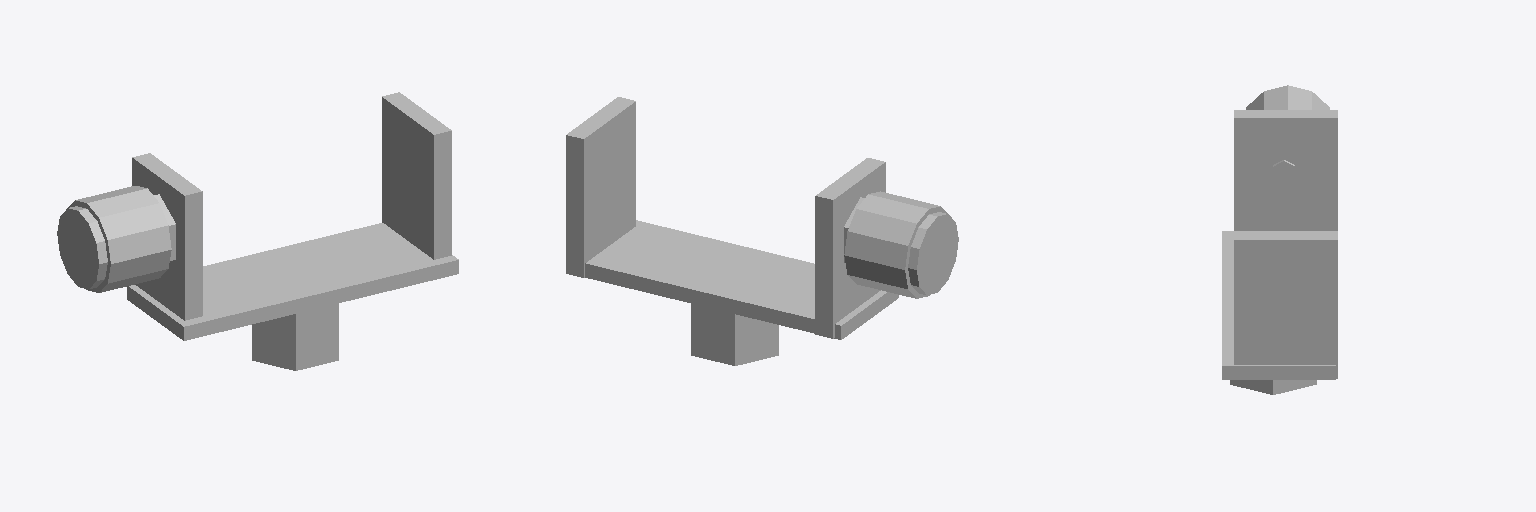
Rendered from Hero_Holder.obj.
3 renders of one model, left to right at view 1: azimuth 30°, elevation 25°; view 2: azimuth 150°, elevation 25°; view 3: azimuth 270°, elevation 25°, orthographic.
Visible parts, largest first — view 1: polySurface410; view 2: polySurface410; view 3: polySurface410.
Boxes of the visible parts, box(x1,y1,x2,y2) form: polySurface410: box(57, 92, 458, 370); polySurface410: box(566, 97, 958, 365); polySurface410: box(1222, 85, 1337, 394).
Size of the model in its own units: 5.63 by 3.1 by 1.64.